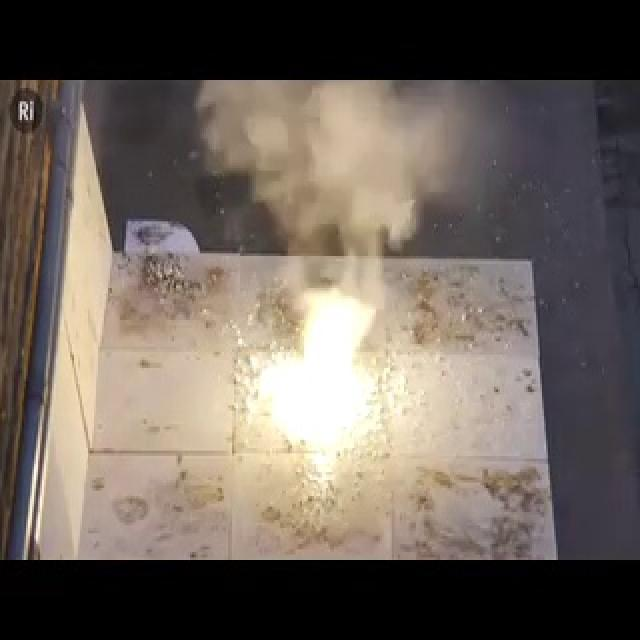fire: (267, 261, 391, 459)
